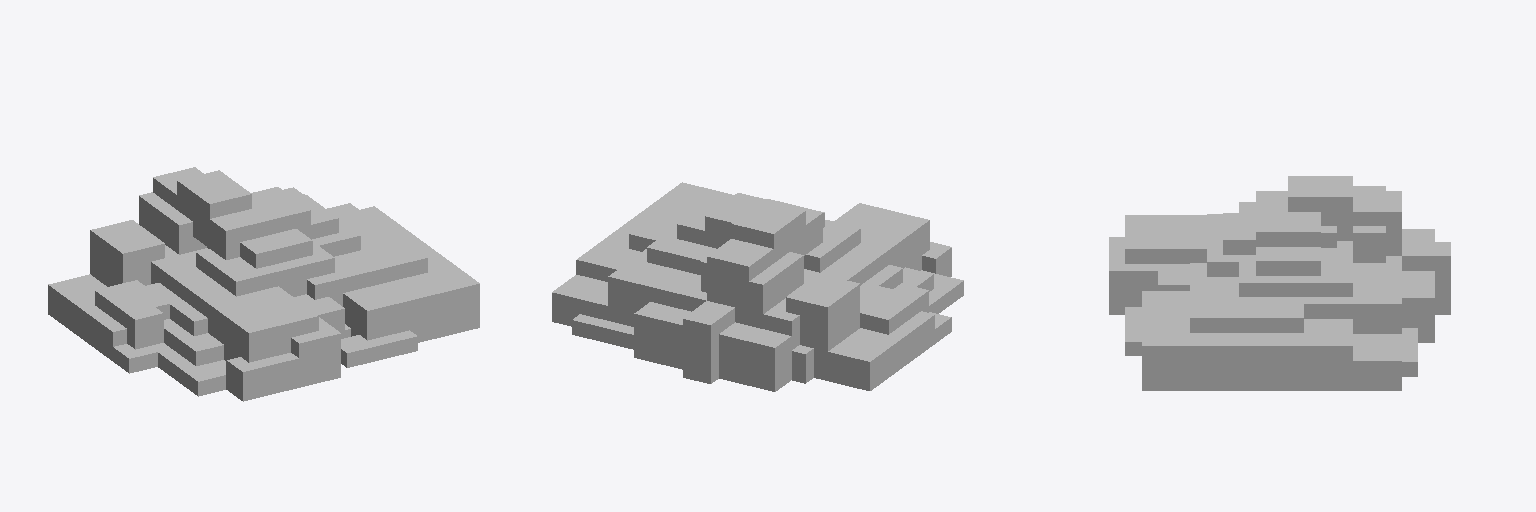
The model's file is bush1.obj.
3 views of the same model, side by side, from view 1: azimuth 30°, elevation 25°; view 2: azimuth 150°, elevation 25°; view 3: azimuth 270°, elevation 25° (orthographic).
Visible parts, largest first — view 1: bush1; view 2: bush1; view 3: bush1.
Part boxes in pixels (bbox=[...]): bush1: bbox=[48, 167, 479, 401]; bush1: bbox=[552, 182, 963, 391]; bush1: bbox=[1109, 176, 1450, 390].
Size of the model in its own units: 22 by 8 by 21.